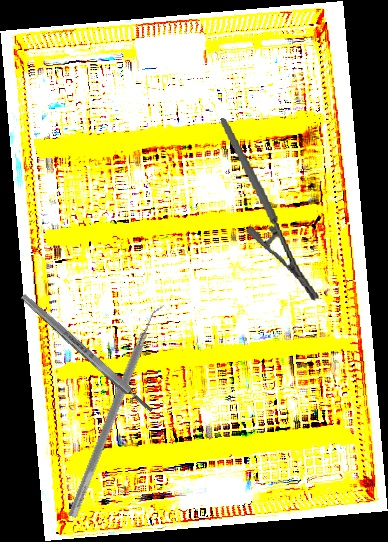Needle Holder: (220, 108, 320, 311)
Scalpel Handle: (19, 291, 155, 416)
Spatula Surgical: (67, 300, 169, 522)
